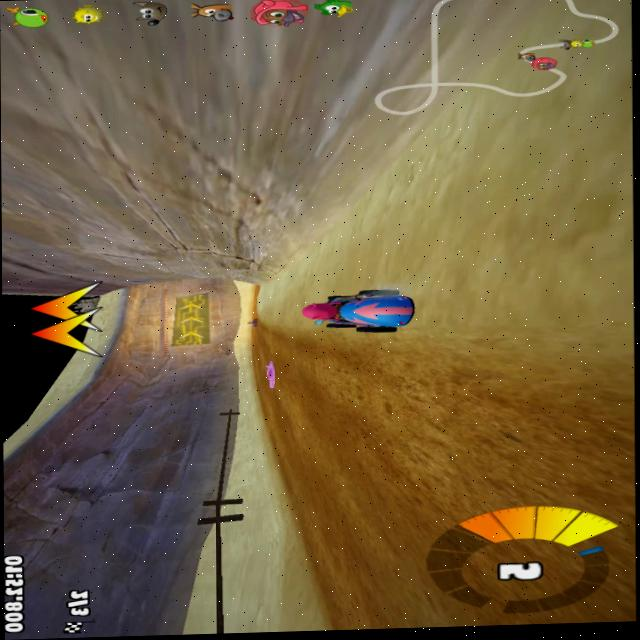enemy_kart: (245, 318, 261, 326)
obstacle: (257, 355, 279, 389)
player_kart: (305, 283, 416, 336)
track: (288, 329, 637, 503), (368, 492, 633, 629), (296, 501, 369, 629), (257, 389, 286, 478), (256, 323, 290, 352), (248, 334, 260, 359), (252, 290, 258, 317)
